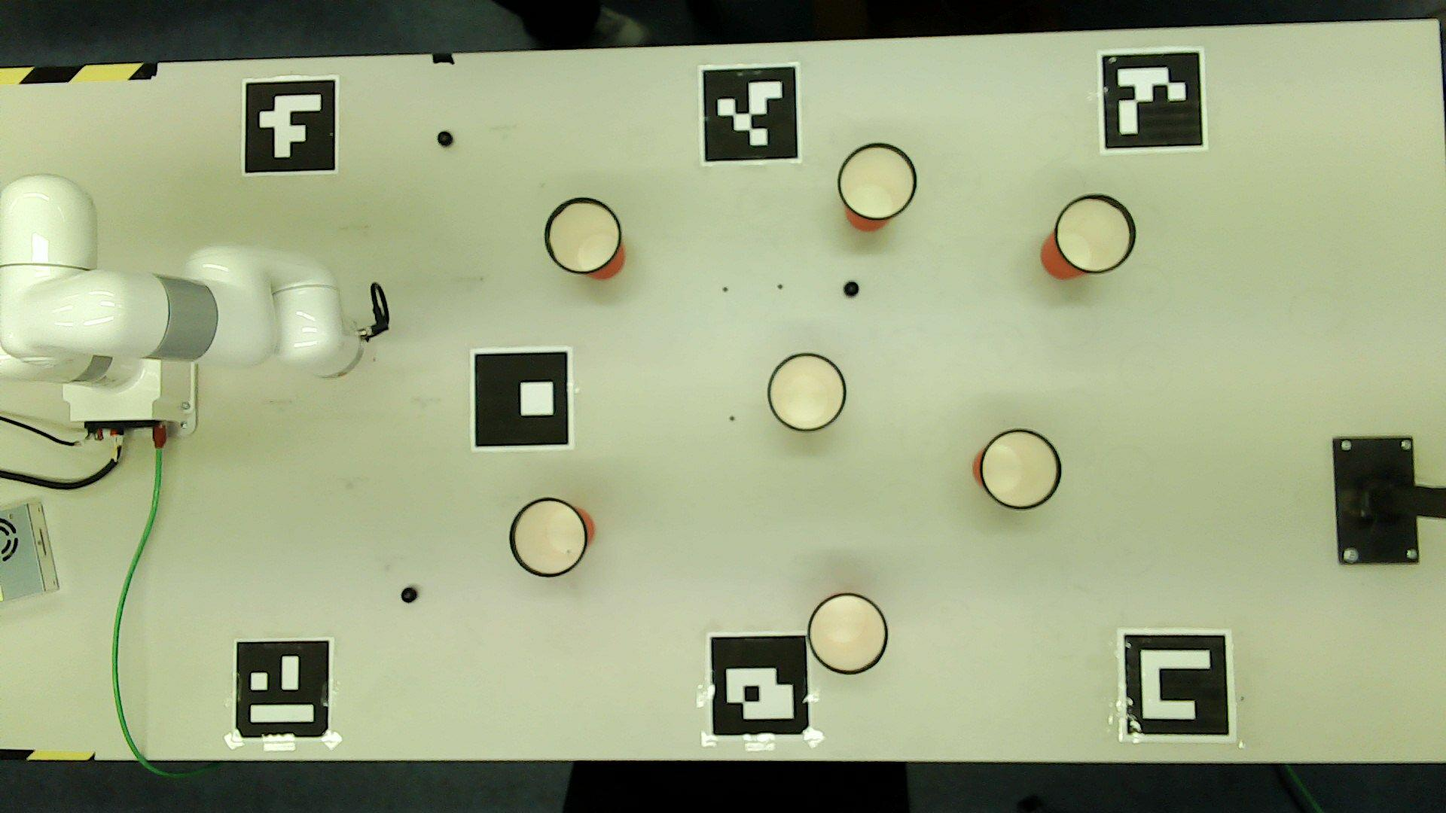ball: (845, 282, 859, 296), (402, 589, 417, 602), (439, 133, 452, 145)
cup: (810, 594, 886, 672), (982, 431, 1060, 507), (1056, 196, 1132, 272), (770, 355, 845, 430), (512, 500, 586, 576), (840, 145, 915, 219), (548, 200, 619, 271)
